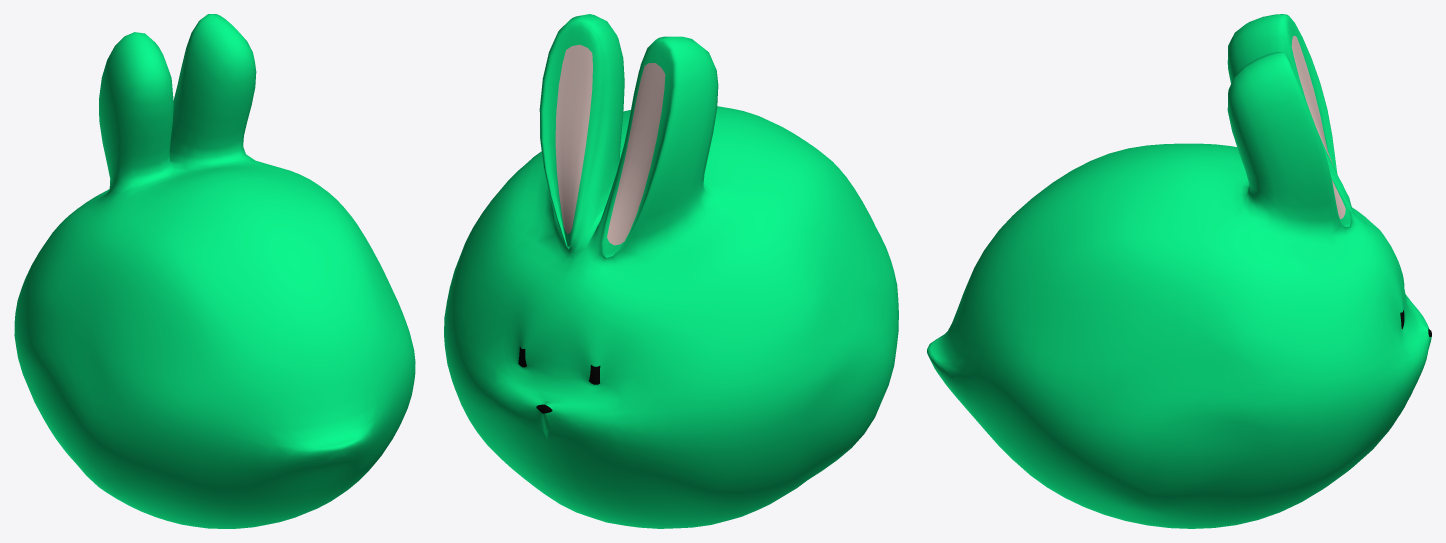
Rendered from prey_54.glb.
The picture shows the model from 3 angles, left to right: view 1: azimuth 30°, elevation 25°; view 2: azimuth 150°, elevation 25°; view 3: azimuth 270°, elevation 25°; orthographic projection. The views are drawn at different scales.
Parts seen in each view (by area): view 1: Cube; view 2: Cube; view 3: Cube.
Boxes of the visible parts, x1,y1,x2,y2 form: Cube: (14,14,415,528); Cube: (444,14,898,528); Cube: (927,14,1431,528).
Bounding box in the file's own units: 4.03 × 5.34 × 5.15.
